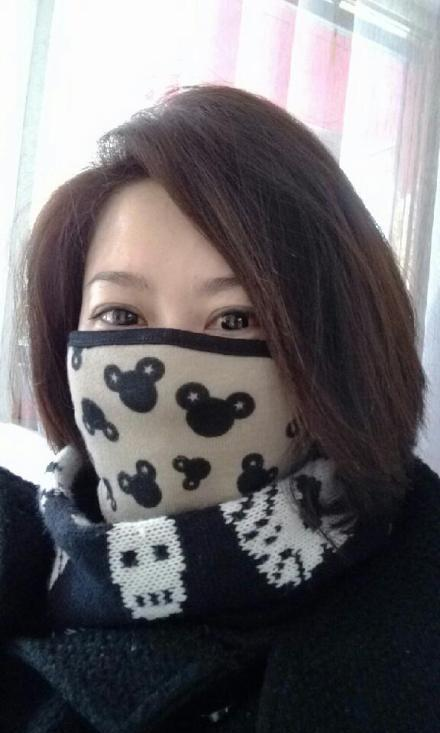OK: (54, 259, 318, 523)
